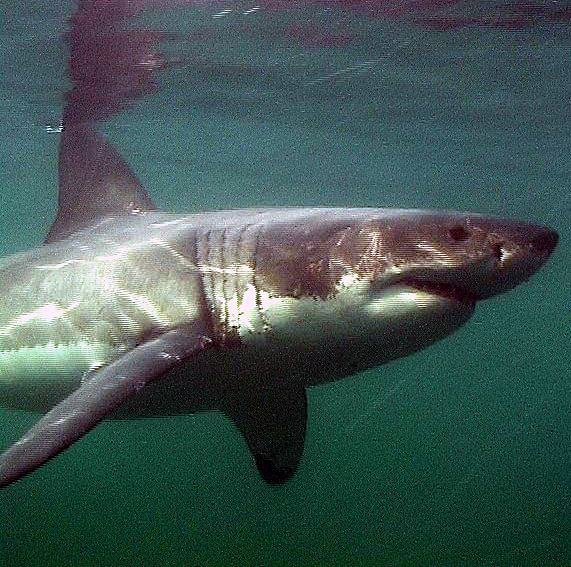Carcharodon_carcharias: (3, 128, 556, 499)
